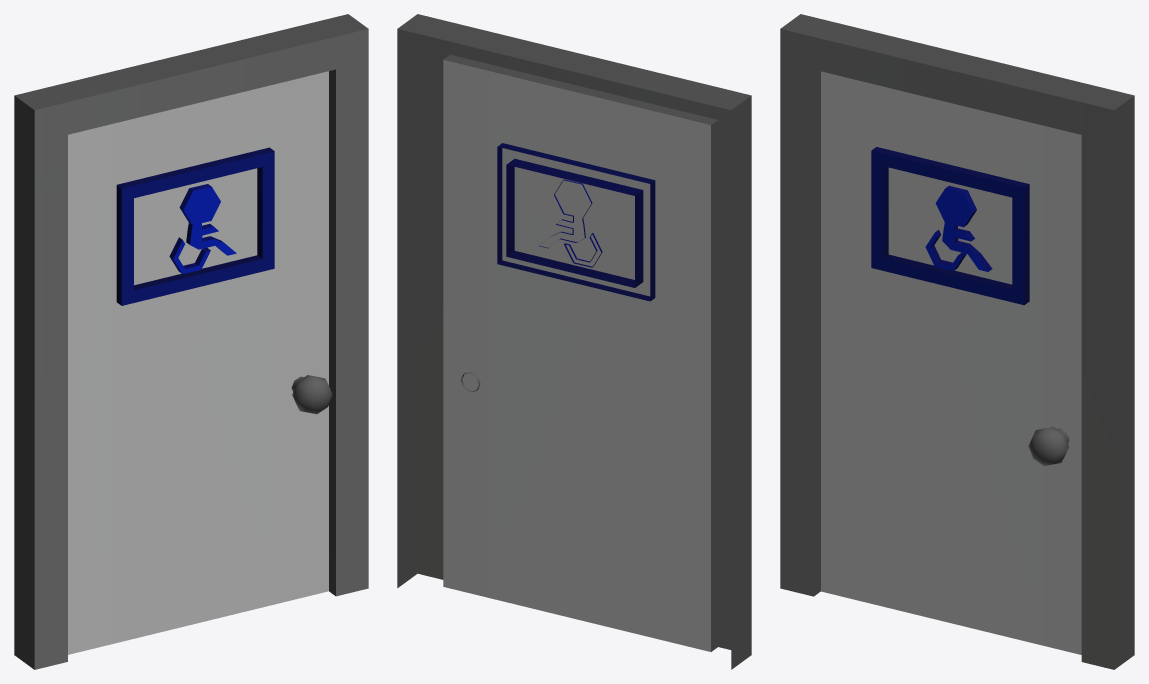
Rendered from PortaBanAcess.fbx.
3 views of the same model, side by side, from view 1: azimuth 30°, elevation 25°; view 2: azimuth 150°, elevation 25°; view 3: azimuth 330°, elevation 25° (orthographic).
Visible parts, largest first — view 1: BathroomDoorAcessibility; view 2: BathroomDoorAcessibility; view 3: BathroomDoorAcessibility.
Boxes of the visible parts, x1=… form: BathroomDoorAcessibility: x1=14, y1=14, x2=368, y2=669; BathroomDoorAcessibility: x1=397, y1=14, x2=751, y2=669; BathroomDoorAcessibility: x1=780, y1=14, x2=1134, y2=669.
Bounding box in the file's own units: 88.6 × 142 × 15.52.
